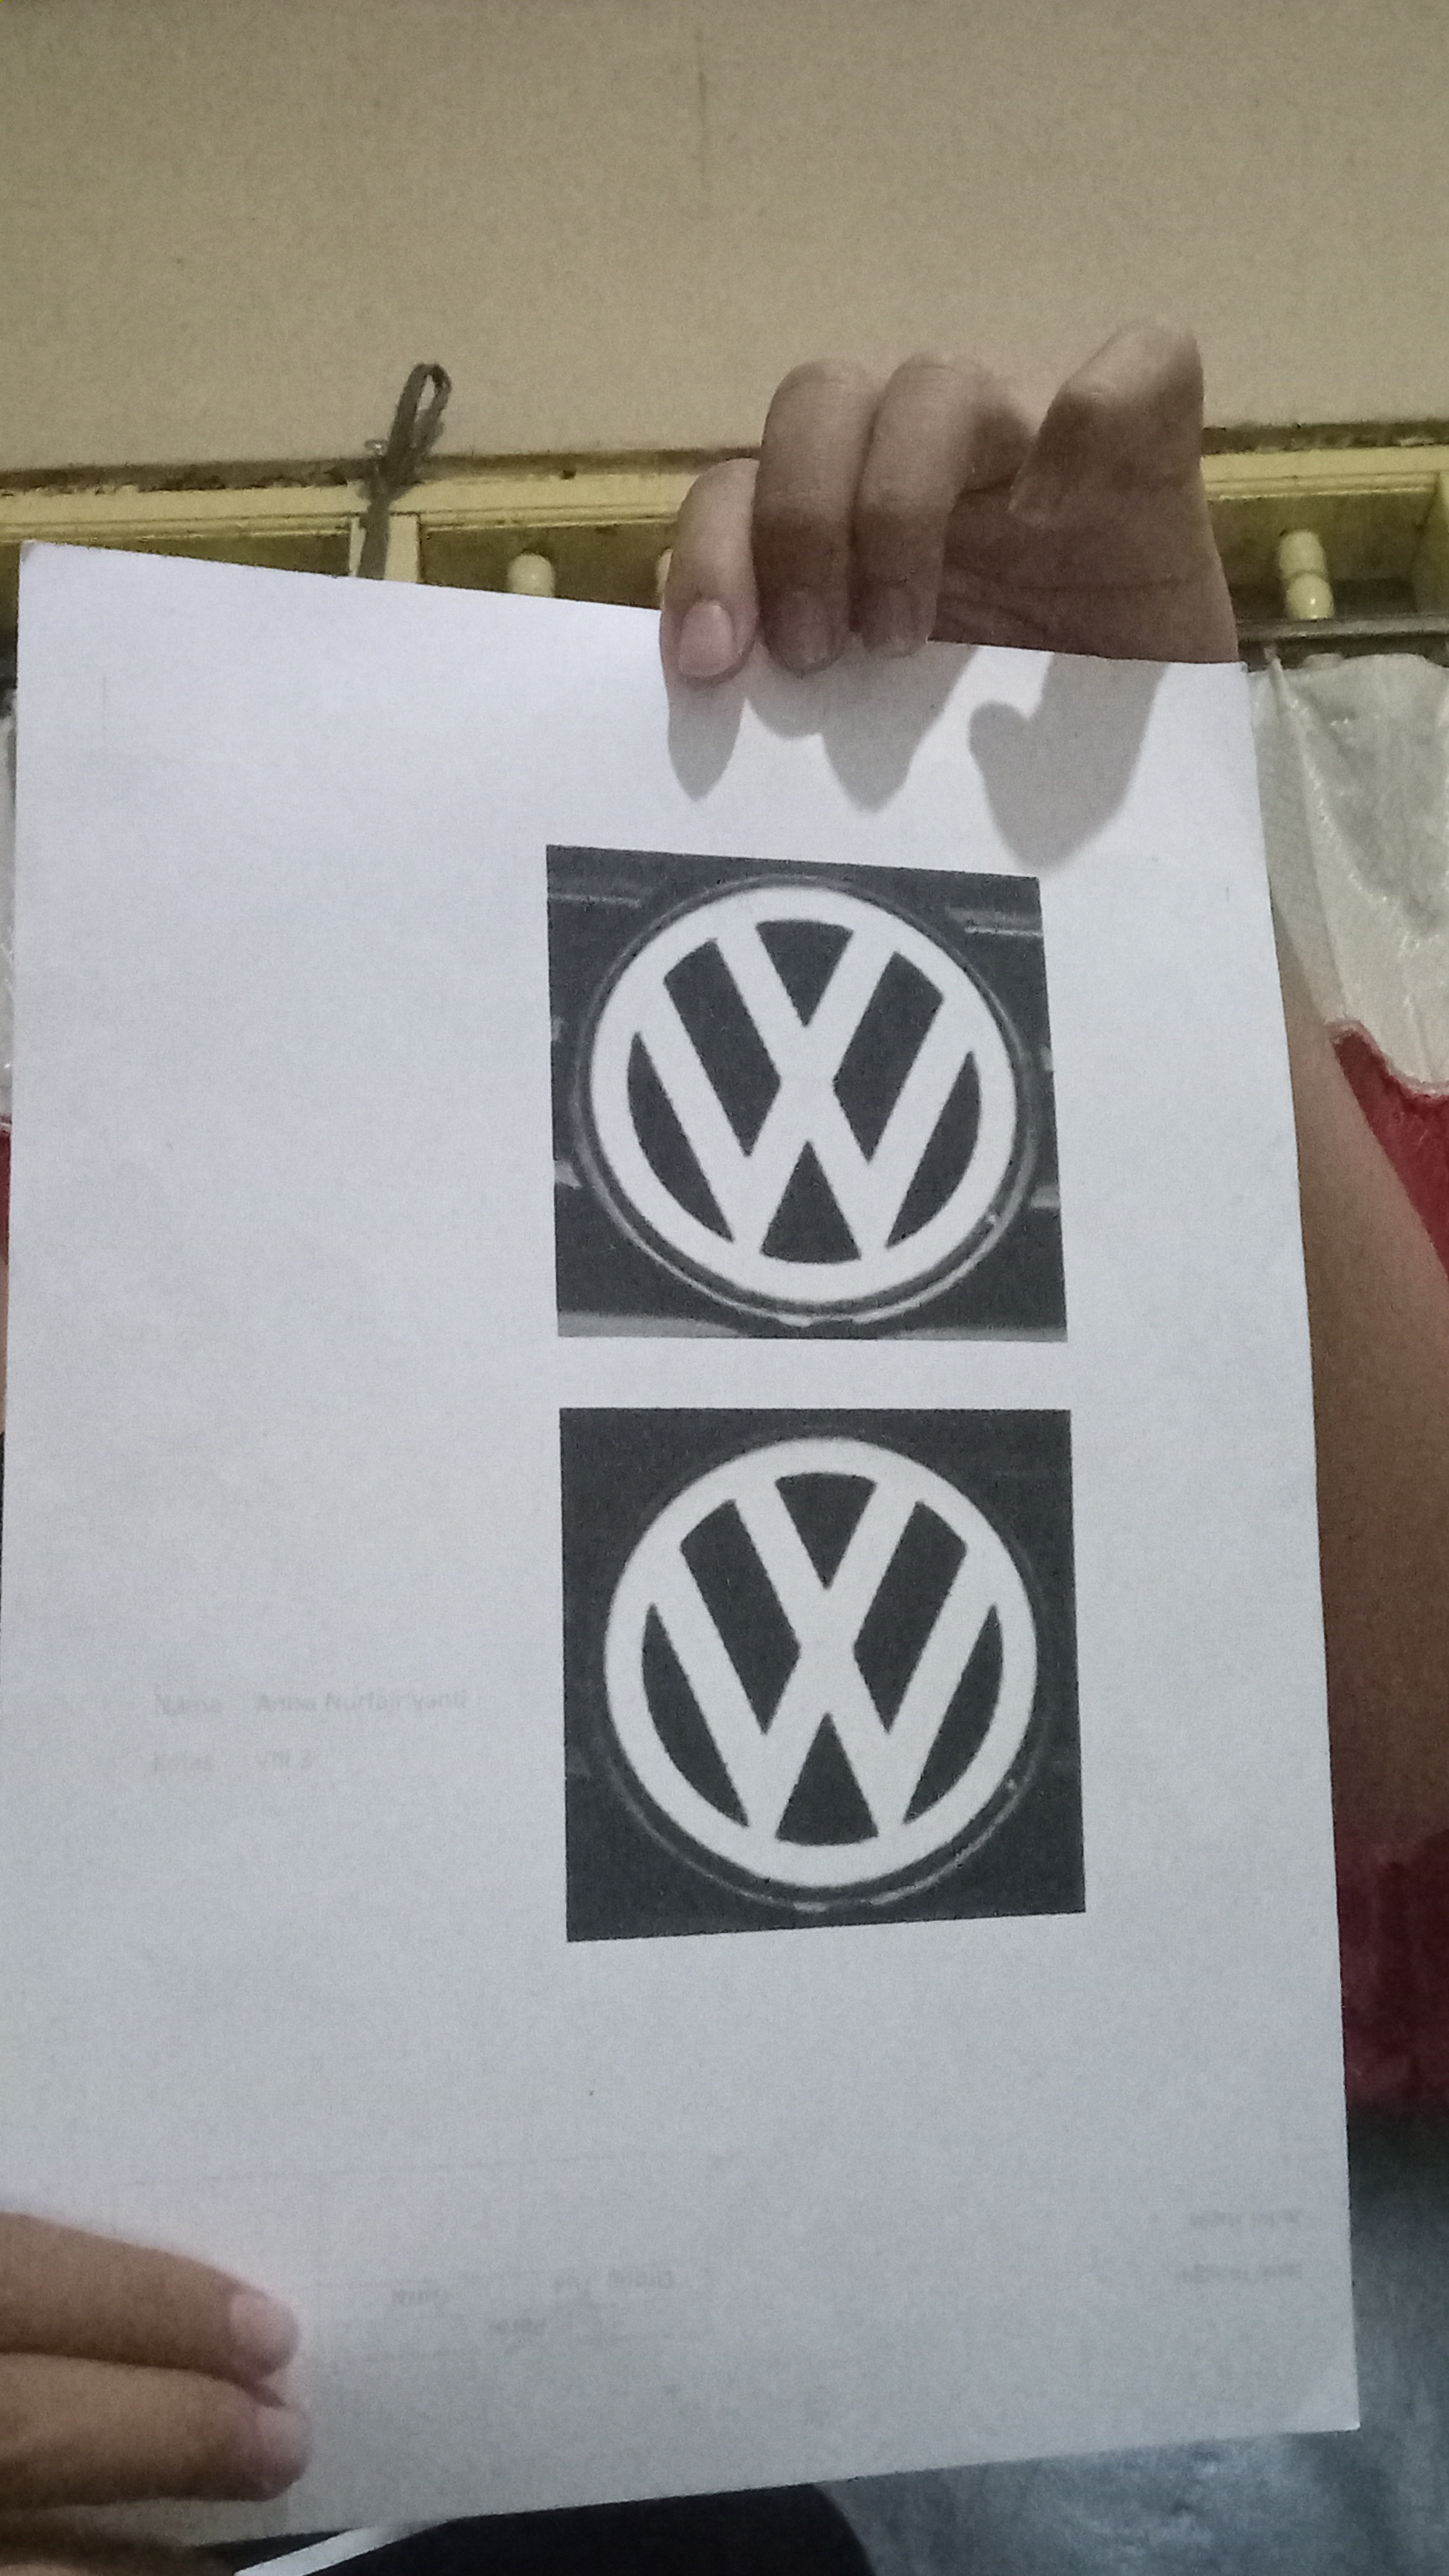Volkswagen: (577, 1422, 1072, 1916), (559, 867, 1042, 1332)
